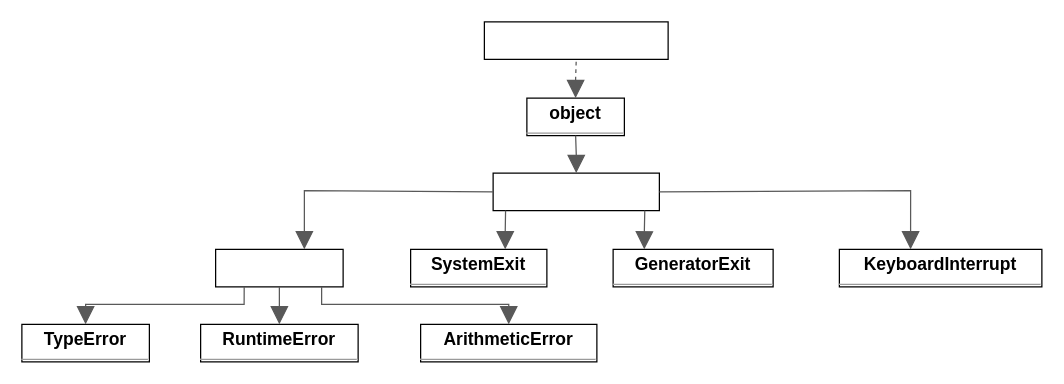
This 1064x384 diagram has some shape labels left out. Here are the shapes that lost their labels. From the top down, the centre of each, then its label:
At [575,40]: "typing.Hashable".
At [575,191]: "BaseException".
At [278,267]: "Exception".
